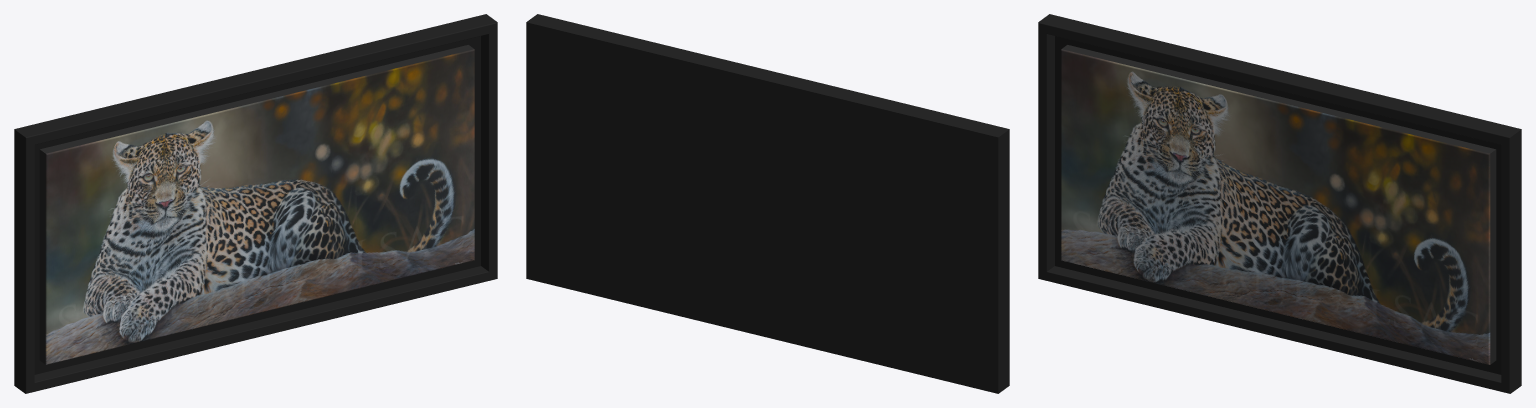
Rendered from tableau-leopard-classique-24c11466.glb.
The picture shows the model from 3 angles, left to right: view 1: azimuth 30°, elevation 25°; view 2: azimuth 150°, elevation 25°; view 3: azimuth 330°, elevation 25°; orthographic projection.
Visible parts, largest first — view 1: Painting; view 2: Painting; view 3: Painting.
Boxes of the visible parts, left/top/right/bottom form: Painting: left=14, top=14, right=497, bottom=393; Painting: left=526, top=14, right=1009, bottom=393; Painting: left=1038, top=14, right=1521, bottom=393.
Size of the model in its own units: 0.936 by 0.486 by 0.04.
Materials: 4 (2 with a texture image).
